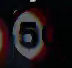Speed limit: (8, 6, 60, 58)
